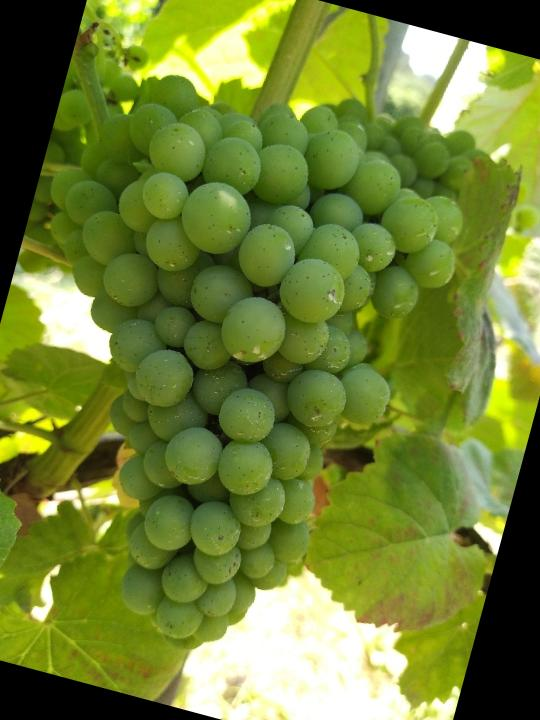grape: (0, 44, 489, 693)
